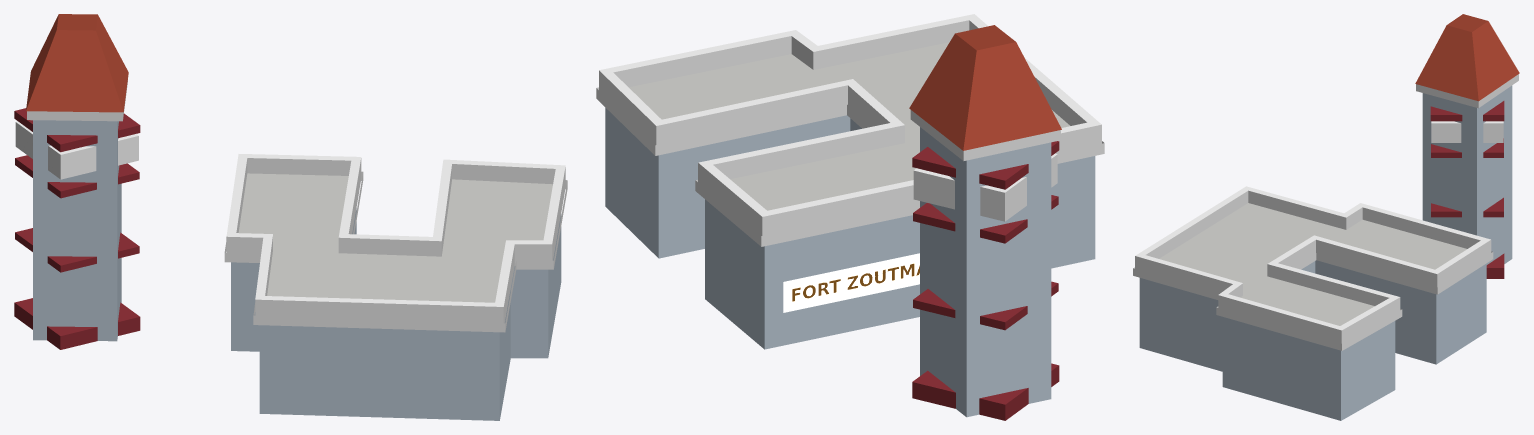
Rendered from fortzoutman.glb.
The picture shows the model from 3 angles, left to right: view 1: azimuth 30°, elevation 25°; view 2: azimuth 150°, elevation 25°; view 3: azimuth 270°, elevation 25°; orthographic projection. The views are drawn at different scales.
Visible parts, largest first — view 1: fortzoutman_lod0; view 2: fortzoutman_lod0; view 3: fortzoutman_lod0.
Part boxes in pixels (bbox=[...]): fortzoutman_lod0: bbox=[14, 14, 567, 420]; fortzoutman_lod0: bbox=[596, 14, 1104, 420]; fortzoutman_lod0: bbox=[1133, 14, 1519, 420].
Size of what is drawn, in the model's own units: 31.84 by 19.5 by 28.43.
Materials: 8 (2 with a texture image).
